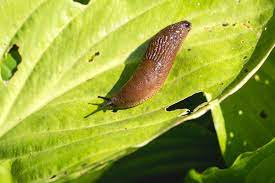slug: (101, 20, 193, 111)
